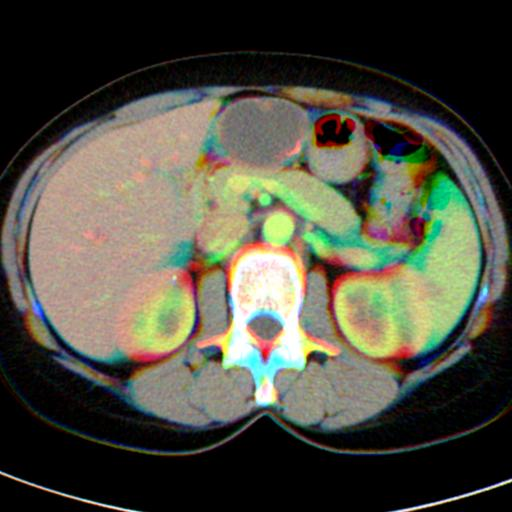Cyst: (218, 97, 308, 166)
